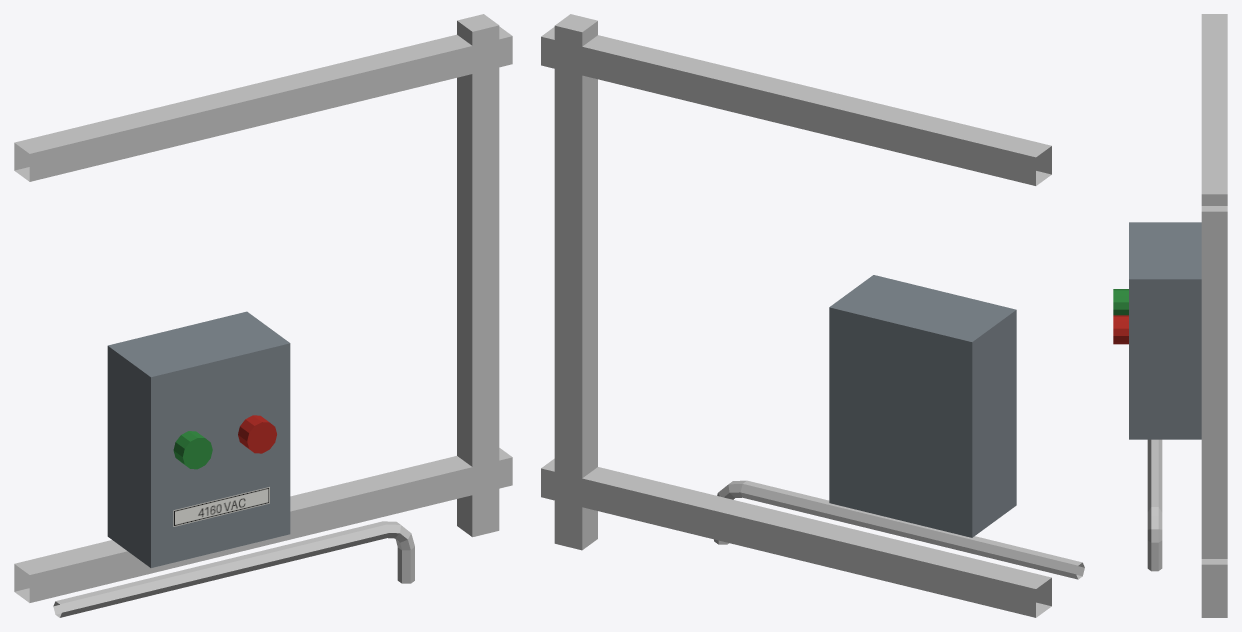
The model's file is cell_53.obj.
3 views of the same model, side by side, from view 1: azimuth 30°, elevation 25°; view 2: azimuth 150°, elevation 25°; view 3: azimuth 270°, elevation 25° (orthographic). The views are drawn at different scales.
Bounding box in the file's own units: 0.9 × 0.9 × 0.22.
